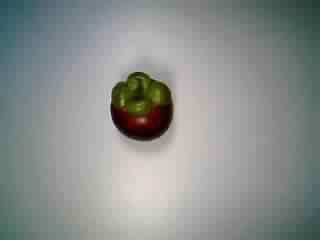mangosteen: (103, 68, 181, 144)
